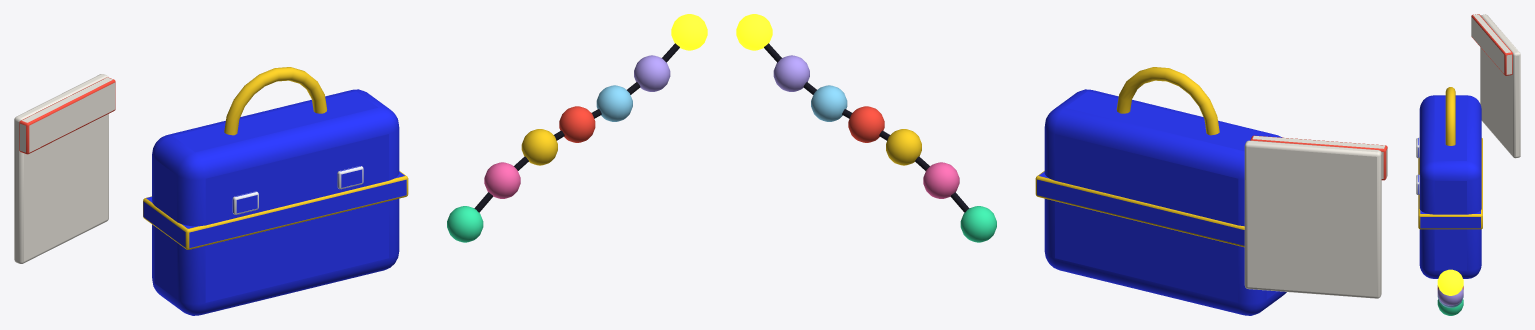
The model's file is briefcase.glb.
3 views of the same model, side by side, from view 1: azimuth 30°, elevation 25°; view 2: azimuth 150°, elevation 25°; view 3: azimuth 270°, elevation 25° (orthographic). The views are drawn at different scales.
Parts seen in each view (by area): view 1: case, cal, bob_tl, tline; view 2: case, cal, bob_tl, tline; view 3: case, cal, bob_tl.
Part boxes in pixels (x1,y1,x2,y2): case: (143,67,408,315); cal: (14,74,115,263); bob_tl: (447,14,707,242); tline: (474,43,679,212); case: (1035,67,1286,315); cal: (1244,135,1387,298); bob_tl: (736,14,996,242); tline: (764,43,969,212); case: (1416,87,1482,278); cal: (1471,14,1520,158); bob_tl: (1437,269,1463,315).
Size of the model in its own units: 13.36 by 4.18 by 2.52.
